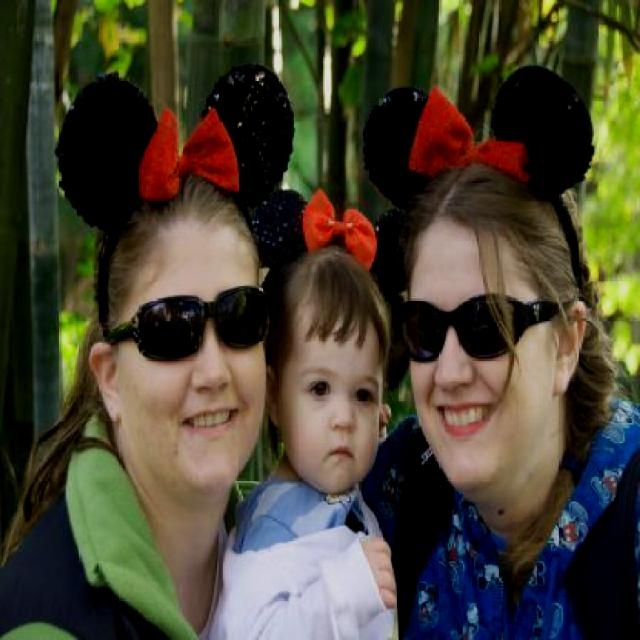face_nomask: (135, 282, 270, 450), (403, 288, 535, 448), (292, 372, 381, 472)
glasses: (119, 280, 276, 368), (393, 290, 536, 365)
hand_noglove: (361, 532, 404, 613)
head_nohelmet: (388, 144, 562, 270), (95, 181, 267, 264), (286, 245, 389, 347)
